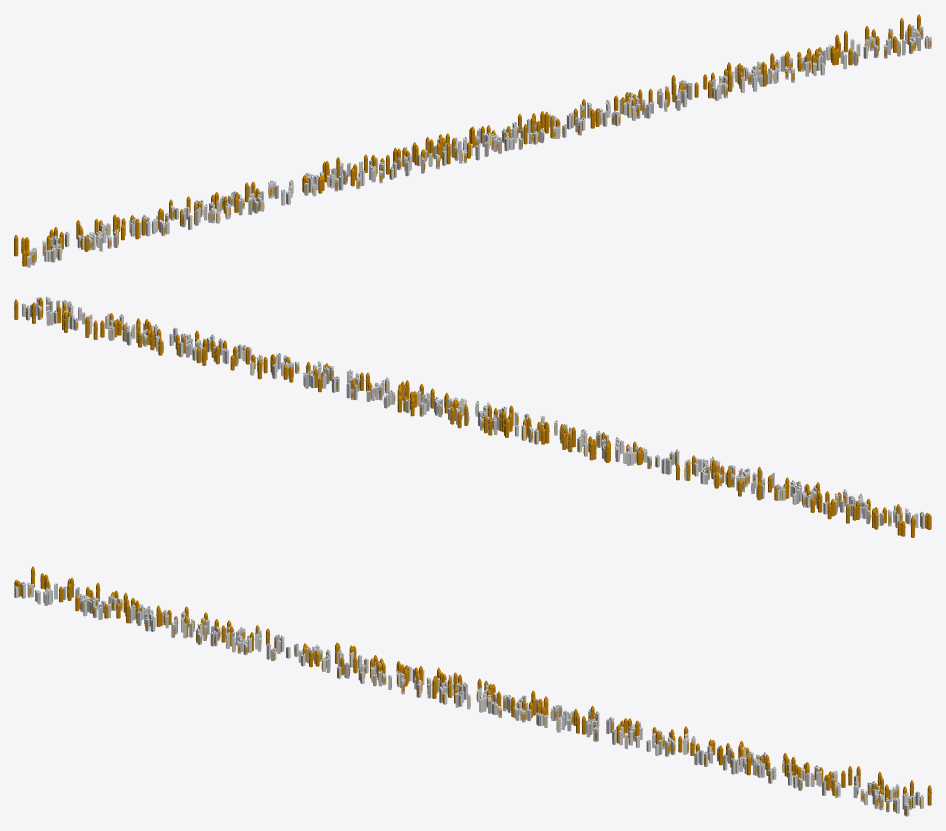
The model's file is beecitycolor.fbx.
The picture shows the model from 3 angles, top to bottom: view 1: azimuth 30°, elevation 25°; view 2: azimuth 150°, elevation 25°; view 3: azimuth 330°, elevation 25°; orthographic projection.
Visible parts, largest first — view 1: Plane; view 2: Plane; view 3: Plane.
Part boxes in pixels (x1=…): Plane: x1=14, y1=14, x2=931, y2=267; Plane: x1=14, y1=296, x2=931, y2=537; Plane: x1=14, y1=566, x2=931, y2=816.
Size of the model in its own units: 9938 by 222 by 399.
